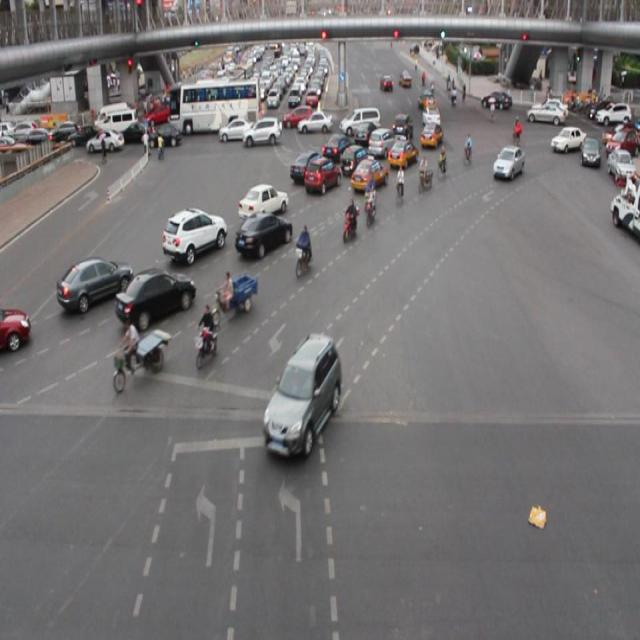car: (266, 336, 340, 451), (116, 265, 196, 326), (56, 253, 133, 310), (162, 207, 228, 259), (234, 210, 292, 259), (238, 183, 288, 222), (0, 302, 32, 354), (303, 155, 340, 193), (491, 143, 523, 182), (350, 157, 386, 191), (290, 149, 323, 185), (386, 138, 416, 170), (366, 126, 394, 158), (339, 145, 367, 174), (321, 133, 349, 161), (419, 122, 441, 148)
